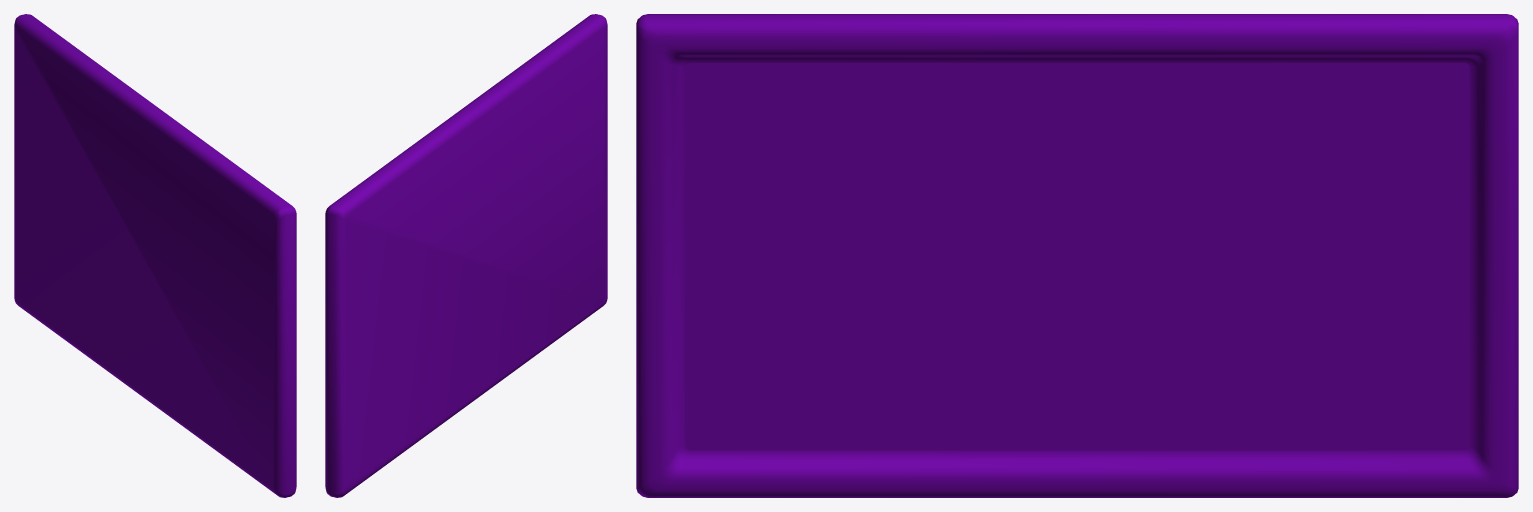
The model's file is ShopMenu.fbx.
The picture shows the model from 3 angles, left to right: view 1: azimuth 30°, elevation 25°; view 2: azimuth 150°, elevation 25°; view 3: azimuth 270°, elevation 25°; orthographic projection. The views are drawn at different scales.
Parts seen in each view (by area): view 1: ShopMenu; view 2: ShopMenu; view 3: ShopMenu.
Boxes of the visible parts, x1=… form: ShopMenu: x1=14, y1=14, x2=296, y2=497; ShopMenu: x1=325, y1=14, x2=607, y2=497; ShopMenu: x1=636, y1=14, x2=1518, y2=497.
Bounding box in the file's own units: 4.3 × 59.21 × 99.36.
